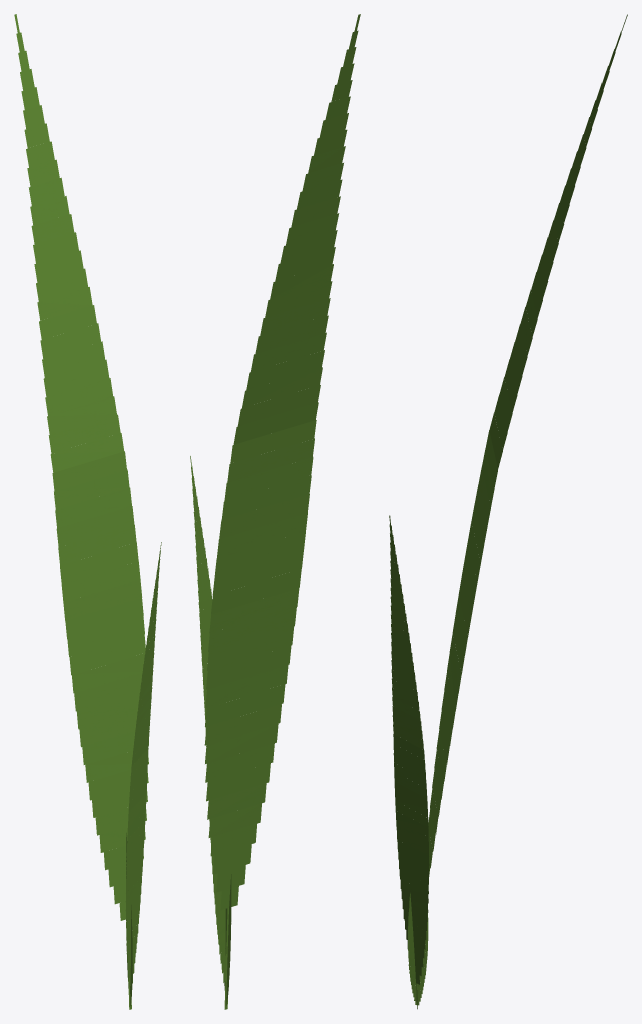
File: maize_004_day_035.dae
The picture shows the model from 3 angles, left to right: view 1: azimuth 30°, elevation 25°; view 2: azimuth 210°, elevation 25°; view 3: azimuth 270°, elevation 25°; orthographic projection. The views are drawn at different scales.
Visible parts, largest first — view 1: node; view 2: node; view 3: node.
Part boxes in pixels (x1,y1,x2,y2): node: (14,14,161,1009); node: (190,14,360,1009); node: (389,14,627,1009).
Size of the model in its own units: 0.0199 by 0.2142 by 0.0469.
Materials: 1 (1 with a texture image).
